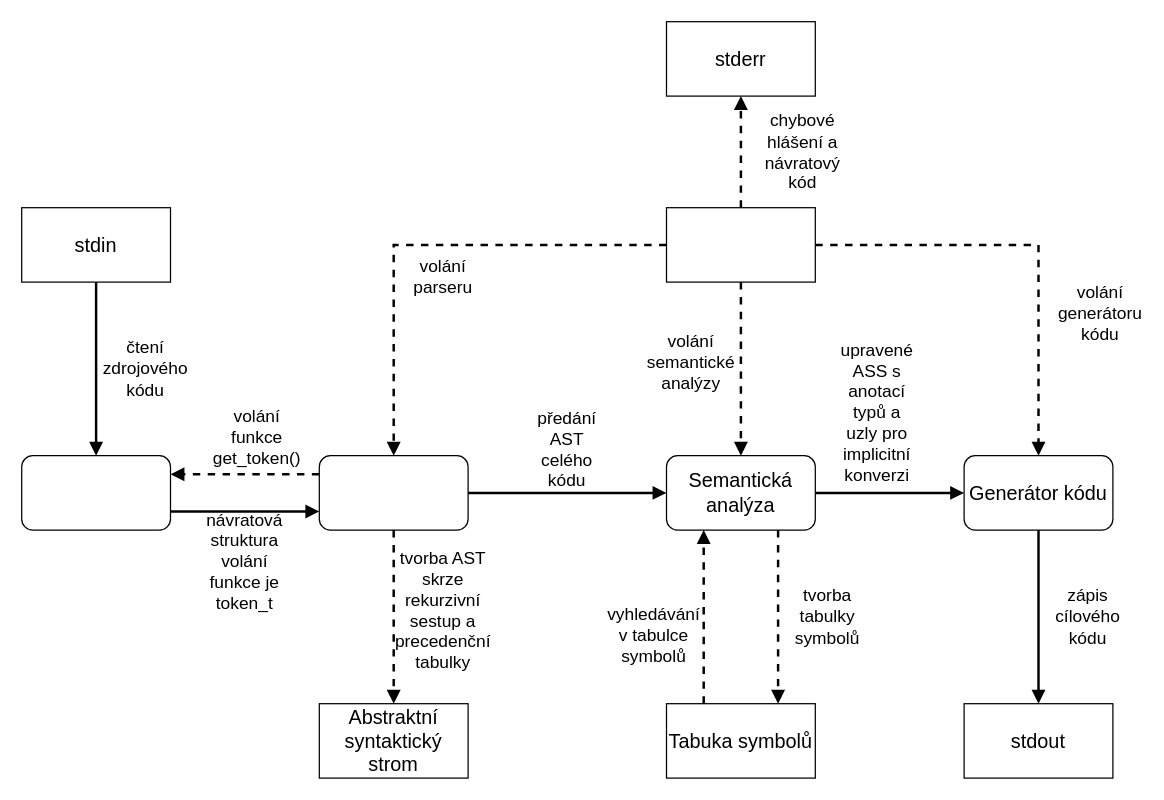
Some shapes in this 1164 by 800 pixel diagram are drawn without their labels. Here are the shapes that lost their labels. From the top down, the centre of each, then its label:
At point (740, 244): "main.c".
At point (95, 492): "Scanner (lexikální analýza )".
At point (393, 492): "Parser (syntaktická analýza)".
